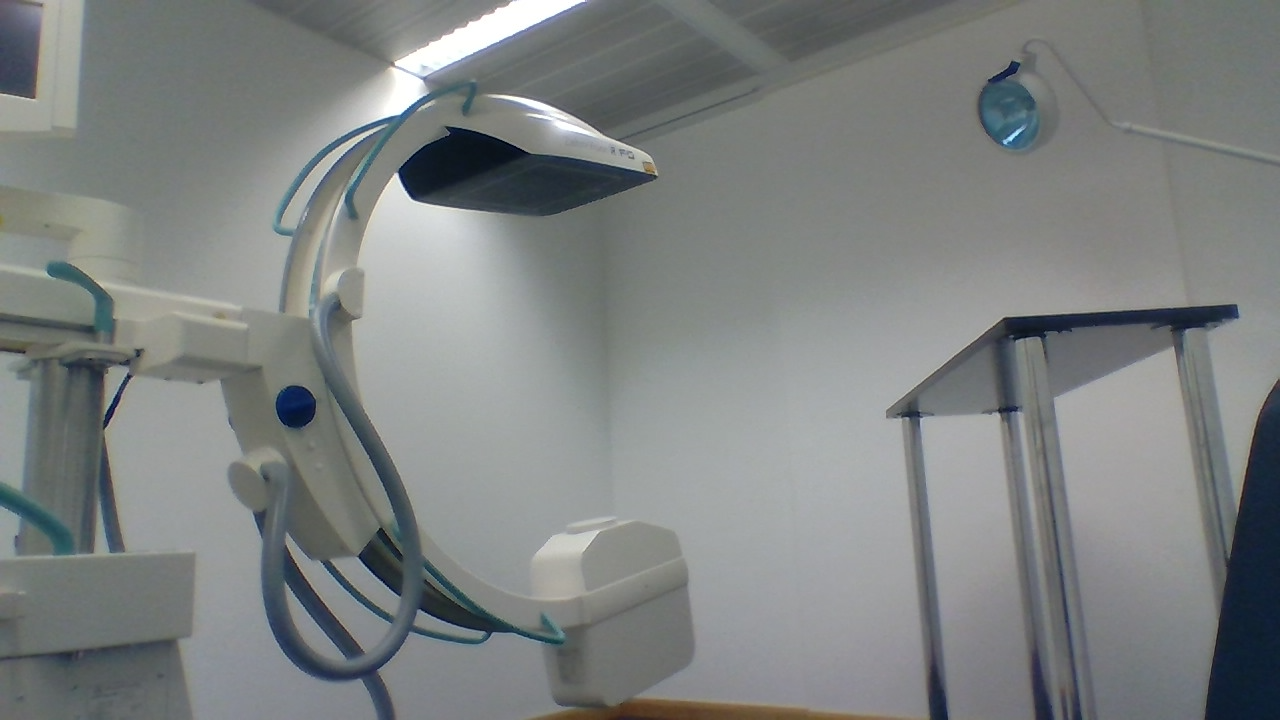carmDOWN: (526, 511, 685, 598)
carmLOCK: (274, 382, 316, 428)
carmUP: (397, 89, 662, 218)
